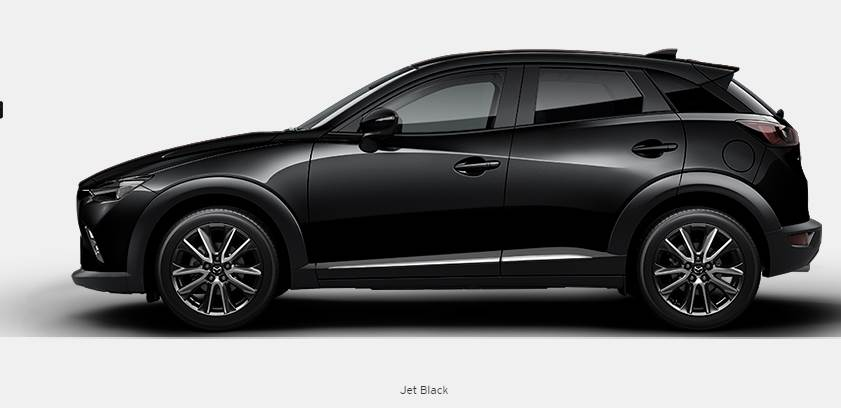pickup: (73, 46, 824, 330)
